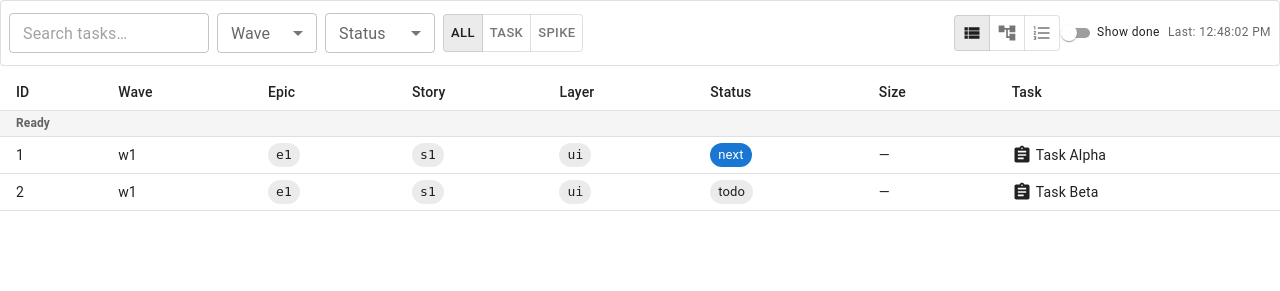
Test: LedgerTable › with tasks loaded › shows "Done" group separator when showAll is toggled via toolbar
This screenshot has width=1280, height=291.
Expected: the text "Task Alpha" is shown, [1012,145,1106,165]
Click the checkbox at (1108, 33), box [1057,21,1160,45]
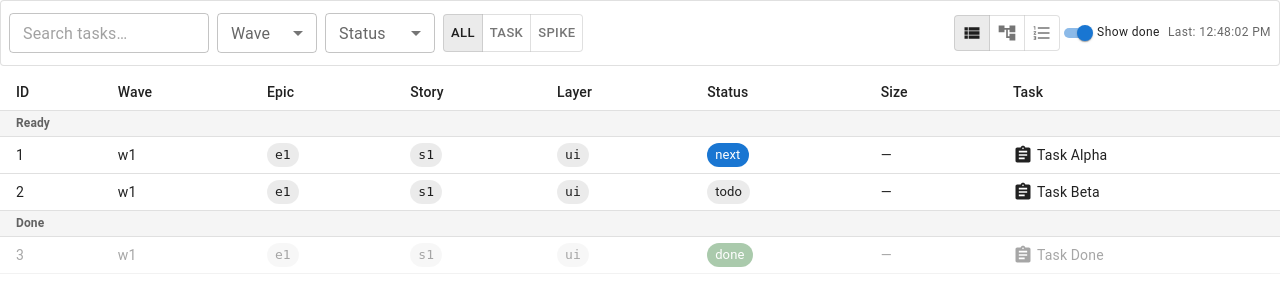
Now the text "Done" is shown, box [0,211,1279,237]
